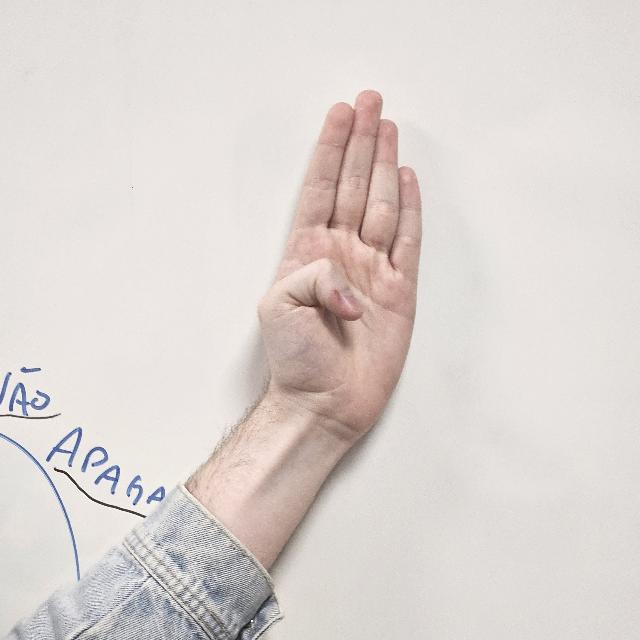Baixo: (254, 87, 422, 450)
